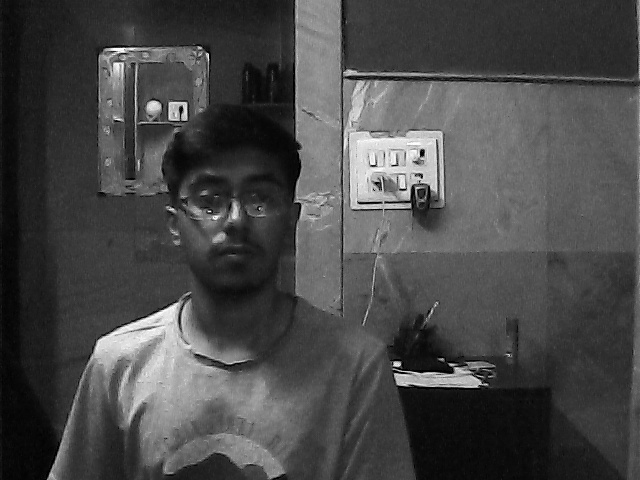nomask: (177, 148, 297, 299)
